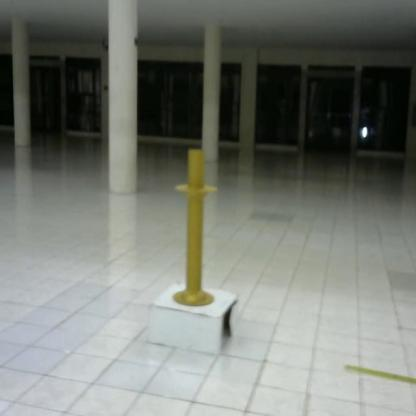pole: (169, 144, 220, 311)
